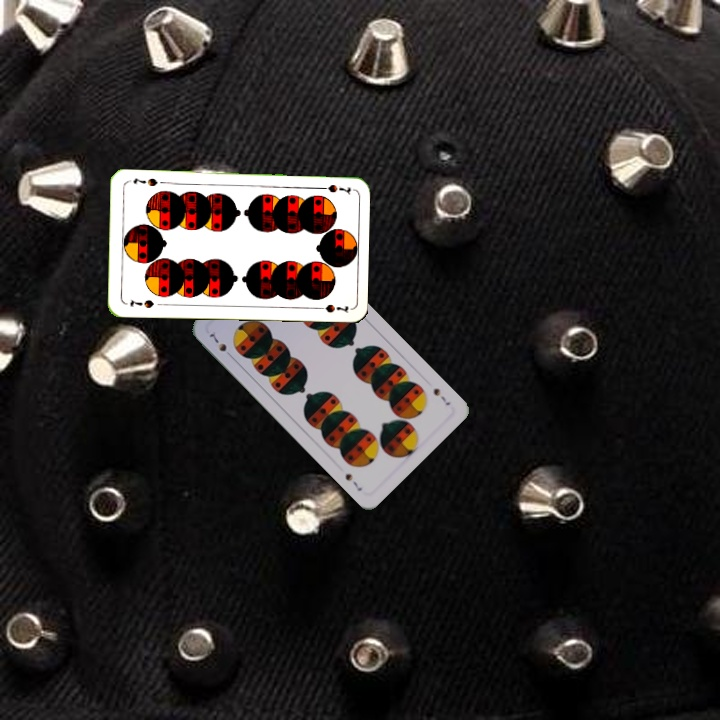S7: (205, 327, 236, 361), (313, 180, 353, 197), (429, 384, 453, 408), (126, 295, 156, 311)
